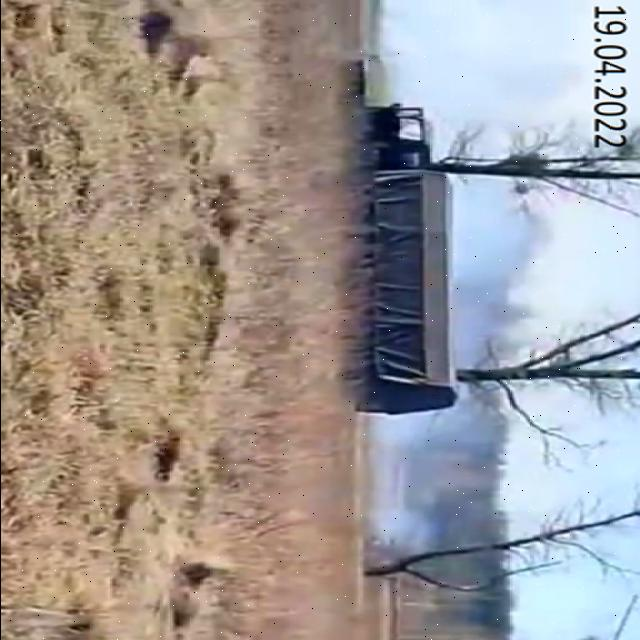TRUCK: (309, 45, 473, 421)
